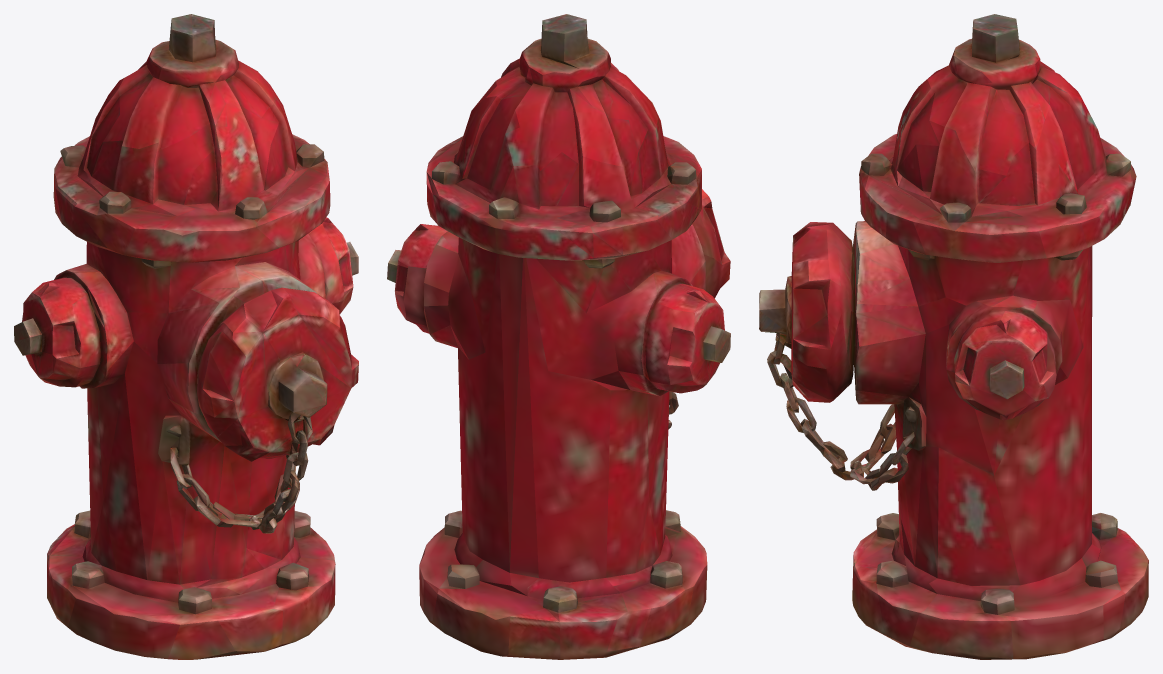
The model's file is prop_hydrant.glb.
3 views of the same model, side by side, from view 1: azimuth 30°, elevation 25°; view 2: azimuth 150°, elevation 25°; view 3: azimuth 270°, elevation 25° (orthographic).
Bounding box in the file's own units: 1.13 × 1.89 × 1.16.
Materials: 1 (1 with a texture image).
